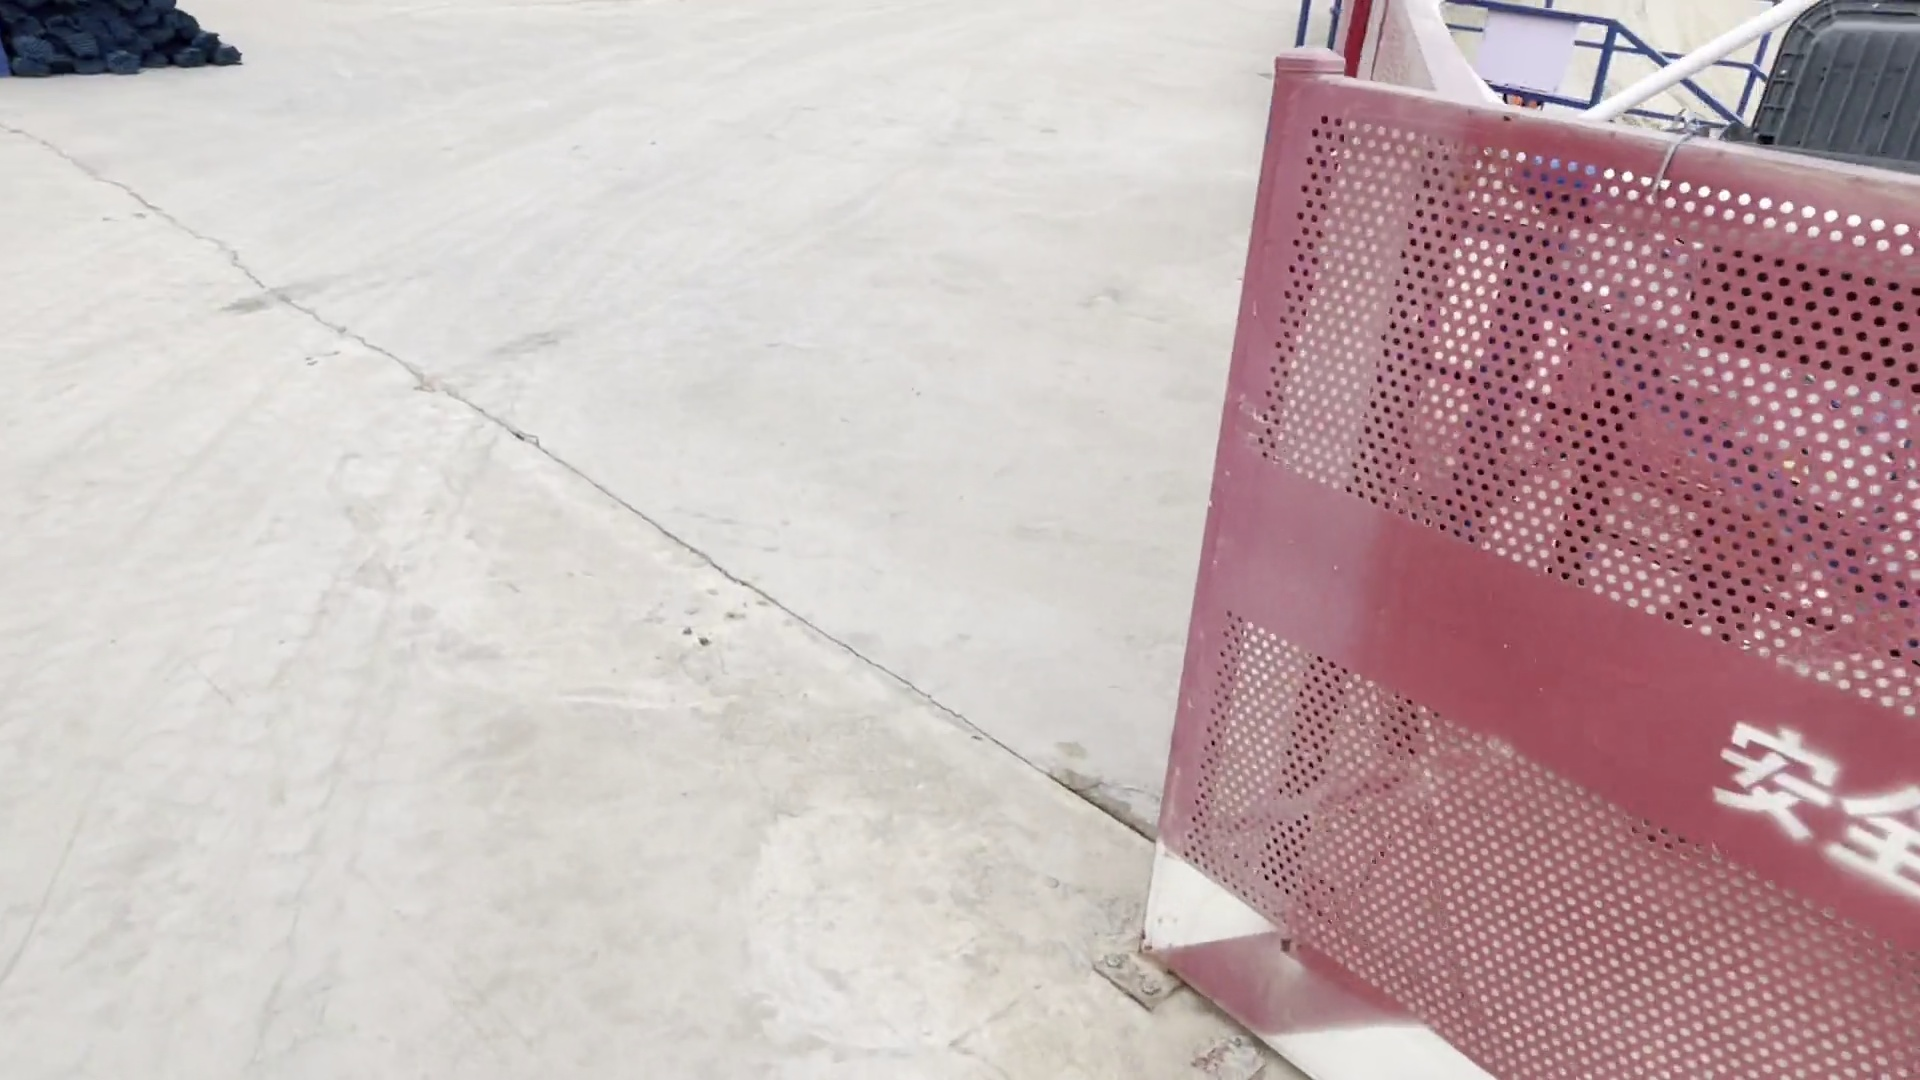fence: (1218, 69, 1915, 1080)
